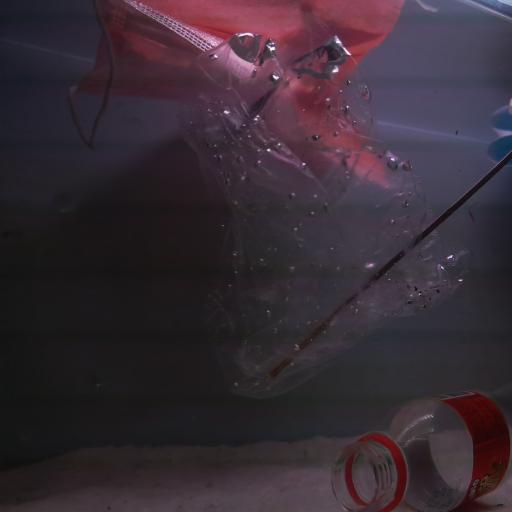mask: (74, 2, 397, 202)
plastic_bag: (174, 26, 480, 393)
plastic_bottle: (328, 393, 512, 512)
